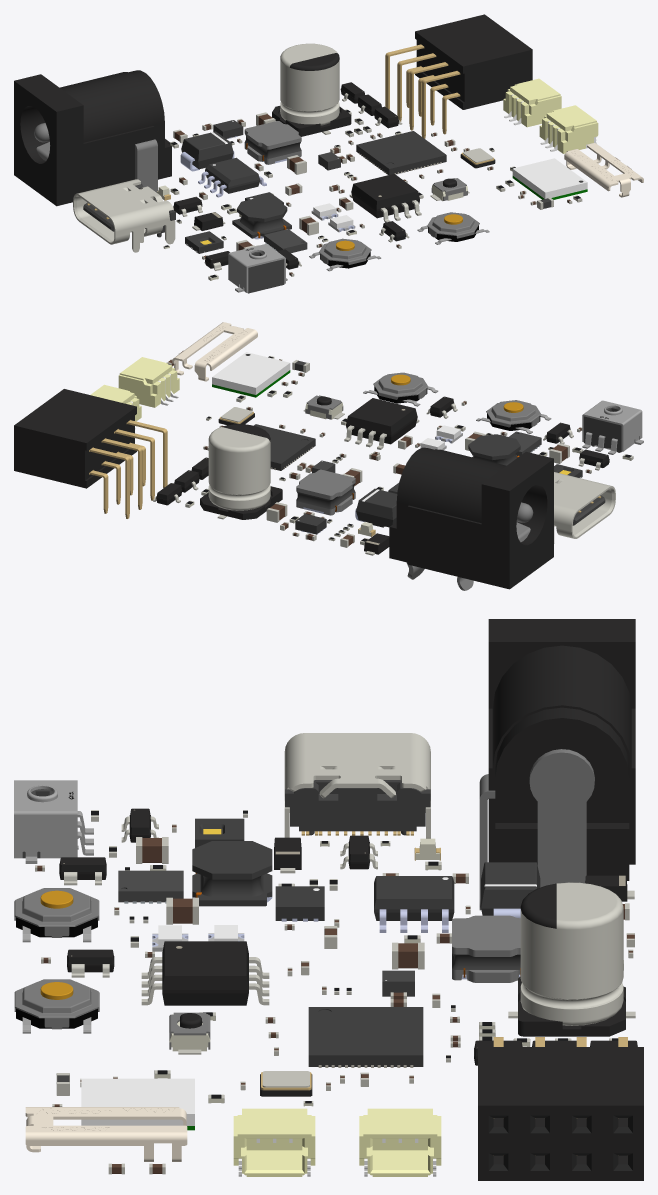
File: components.glb
3 renders of one model, top to bottom at view 1: azimuth 30°, elevation 25°; view 2: azimuth 150°, elevation 25°; view 3: azimuth 270°, elevation 25°, orthographic. The views are drawn at different scales.
Visible parts, largest first — view 1: =>[0:1:1:80], =>[0:1:1:21], =>[0:1:1:3], =>[0:1:1:62], =>[0:1:1:39] (×2), =>[0:1:1:64] (×2), =>[0:1:1:31], RES-ADJ-SMD_GT-EVA01AA-L1, =>[0:1:1:55], =>[0:1:1:51], =>[0:1:1:43], =>[0:1:1:70] (+11 smaller); view 2: =>[0:1:1:80], =>[0:1:1:21], =>[0:1:1:3], =>[0:1:1:62], =>[0:1:1:64] (×2), =>[0:1:1:39] (×2), RES-ADJ-SMD_GT-EVA01AA-L1, =>[0:1:1:55], =>[0:1:1:51], =>[0:1:1:43], =>[0:1:1:70], =>[0:1:1:31] (+9 smaller); view 3: =>[0:1:1:80], =>[0:1:1:21], =>[0:1:1:3], =>[0:1:1:62], =>[0:1:1:39] (×2), =>[0:1:1:64] (×2), =>[0:1:1:31], =>[0:1:1:55], =>[0:1:1:70], RES-ADJ-SMD_GT-EVA01AA-L1, =>[0:1:1:66], =>[0:1:1:43] (+12 smaller).
Boxes of the visible parts, bbox=[...] form: =>[0:1:1:80]: bbox=[14, 70, 171, 206]; =>[0:1:1:21]: bbox=[385, 14, 532, 138]; =>[0:1:1:3]: bbox=[272, 43, 351, 136]; =>[0:1:1:62]: bbox=[73, 179, 175, 252]; =>[0:1:1:39] (×2): bbox=[503, 78, 598, 153]; =>[0:1:1:64] (×2): bbox=[309, 212, 489, 271]; =>[0:1:1:31]: bbox=[356, 131, 446, 174]; RES-ADJ-SMD_GT-EVA01AA-L1: bbox=[228, 244, 287, 293]; =>[0:1:1:55]: bbox=[349, 173, 421, 222]; =>[0:1:1:51]: bbox=[512, 158, 587, 199]; =>[0:1:1:43]: bbox=[244, 121, 301, 164]; =>[0:1:1:70]: bbox=[564, 143, 643, 197]; =>[0:1:1:80]: bbox=[389, 447, 553, 590]; =>[0:1:1:21]: bbox=[14, 389, 167, 518]; =>[0:1:1:3]: bbox=[200, 424, 282, 519]; =>[0:1:1:62]: bbox=[554, 472, 615, 543]; =>[0:1:1:64] (×2): bbox=[363, 372, 551, 433]; =>[0:1:1:39] (×2): bbox=[90, 357, 179, 428]; RES-ADJ-SMD_GT-EVA01AA-L1: bbox=[582, 400, 643, 454]; =>[0:1:1:55]: bbox=[344, 398, 419, 449]; =>[0:1:1:51]: bbox=[212, 352, 290, 397]; =>[0:1:1:43]: bbox=[296, 469, 355, 515]; =>[0:1:1:70]: bbox=[172, 322, 257, 381]; =>[0:1:1:31]: bbox=[254, 424, 315, 470]; =>[0:1:1:80]: bbox=[479, 619, 635, 910]; =>[0:1:1:21]: bbox=[478, 1037, 643, 1180]; =>[0:1:1:3]: bbox=[508, 882, 635, 1036]; =>[0:1:1:62]: bbox=[284, 733, 430, 838]; =>[0:1:1:39] (×2): bbox=[233, 1108, 441, 1176]; =>[0:1:1:64] (×2): bbox=[14, 888, 99, 1033]; =>[0:1:1:31]: bbox=[308, 1007, 423, 1067]; =>[0:1:1:55]: bbox=[141, 941, 269, 1005]; =>[0:1:1:70]: bbox=[25, 1107, 187, 1161]; RES-ADJ-SMD_GT-EVA01AA-L1: bbox=[14, 780, 93, 863]; =>[0:1:1:66]: bbox=[192, 841, 272, 906]; =>[0:1:1:43]: bbox=[452, 915, 520, 982].
Size of the model in its own units: 0.0577 by 0.0146 by 0.0385.
